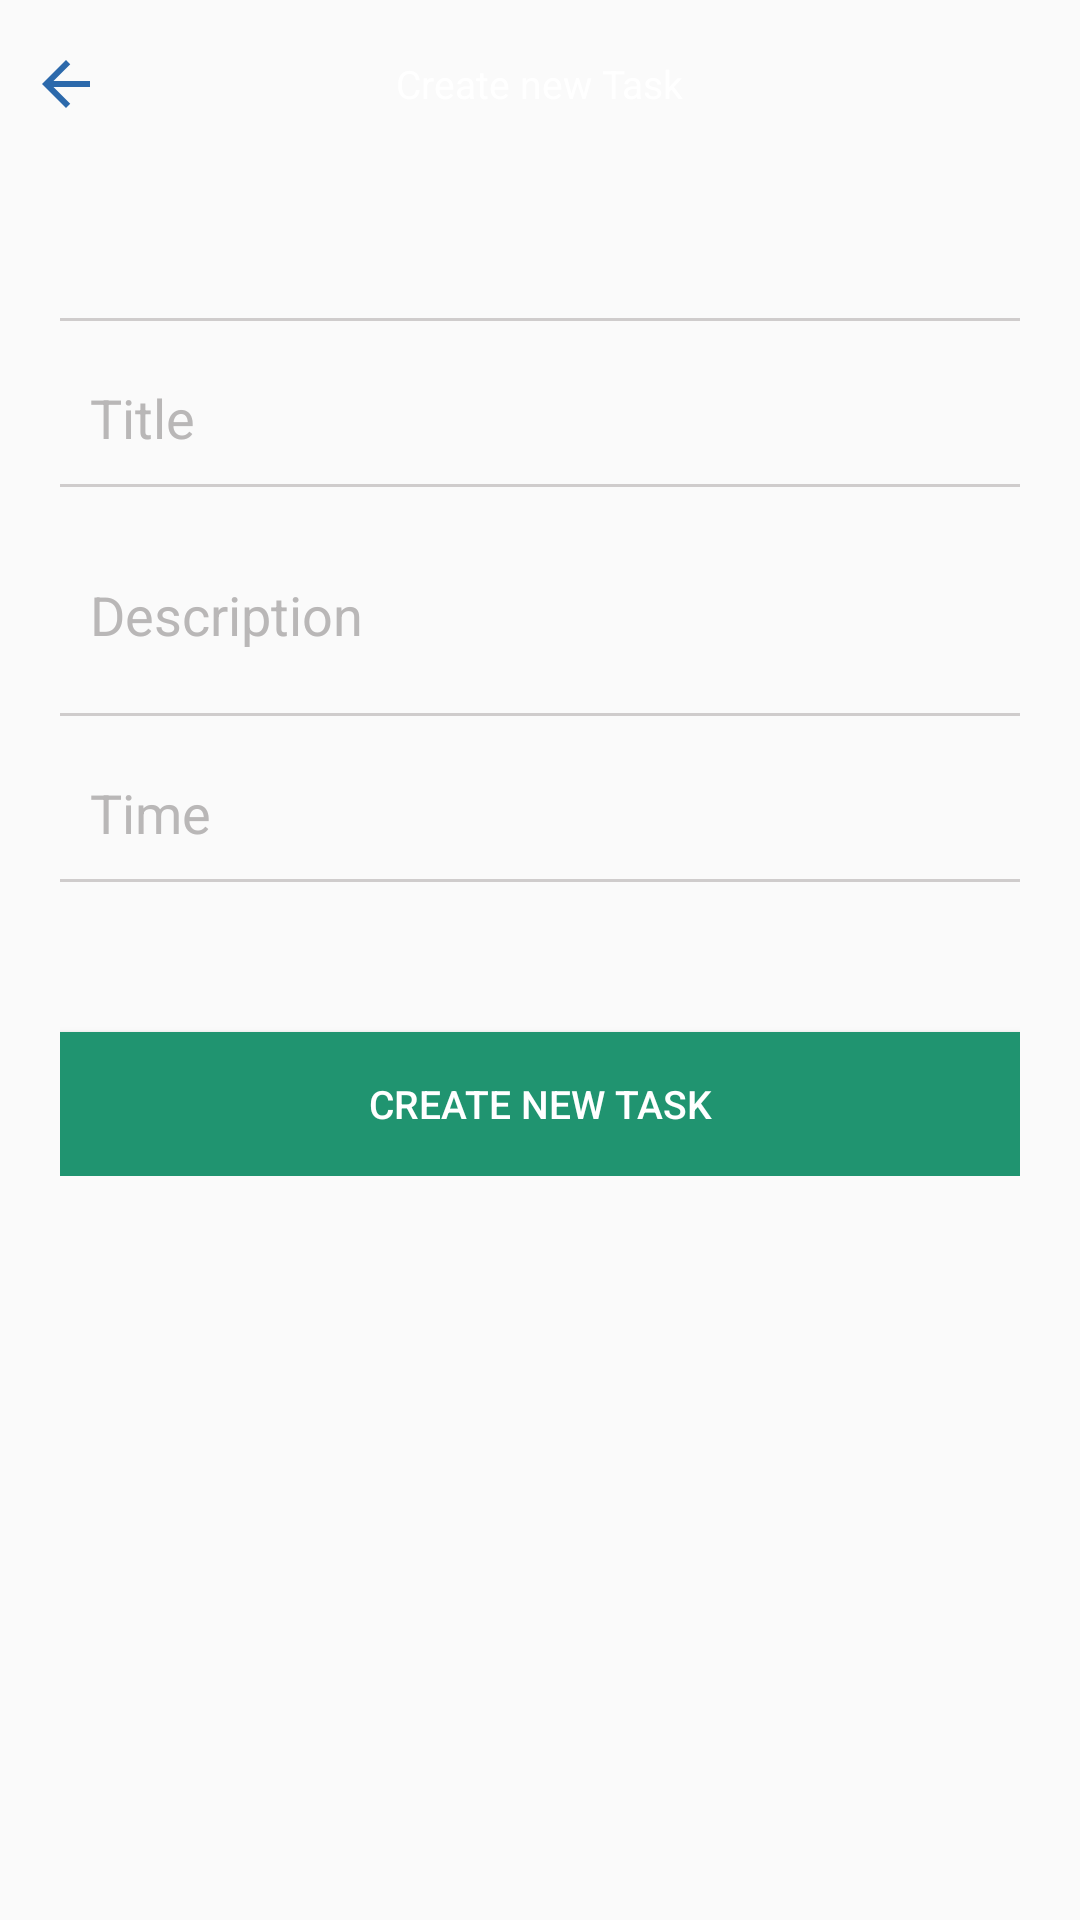

Screen size 1080 x 1920. Icon name, then its box in pixels as (x1, y1, x2, y2):
arrow: (42, 60, 90, 108)
